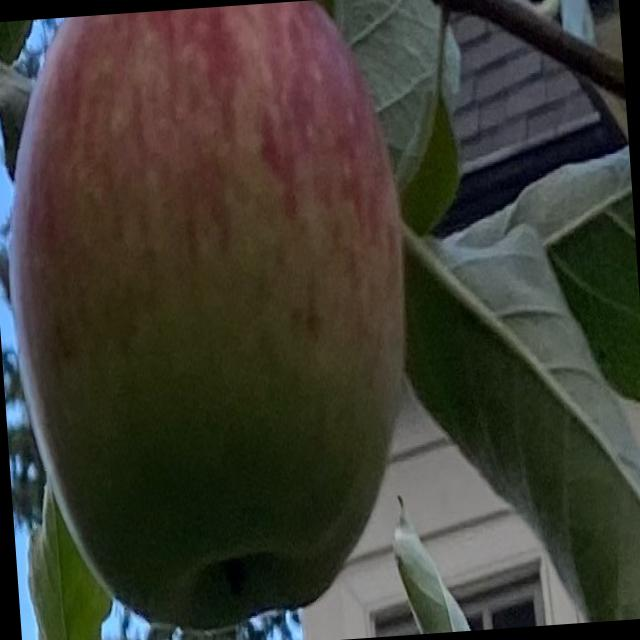Apples: (0, 0, 424, 639)
